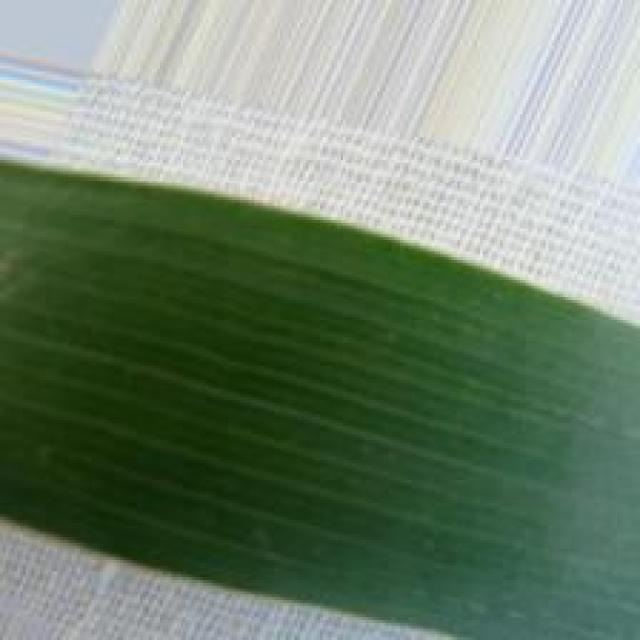Healthy: (0, 155, 640, 640)
